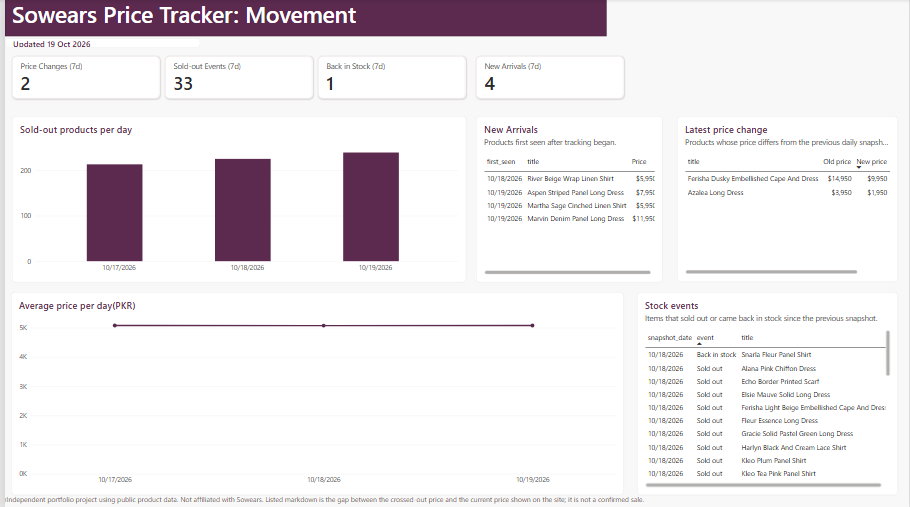

This screenshot's page, from the dashboard's own definition file:
{"tool":"powerbi","page":{"name":"Movement","canvas":[1920,1080],"ordinal":1},"visuals":[{"type":"shape","box":[0,0,1279.1,79.5],"z":0},{"type":"cardVisual","fields":{"Data":["price_history.Last Updated"]},"box":[0,82,415.3,20.5],"z":1000},{"type":"textbox","box":[0,1053.3,1465.2,25.7],"z":2000},{"type":"cardVisual","fields":{"Data":["price_history.Price Changes (7d)"]},"box":[14.9,121.2,314.6,91.4],"z":3000},{"type":"cardVisual","fields":{"Data":["price_history.Sold-out Events (7d)"]},"box":[340.9,120.5,314.6,91.4],"z":4000},{"type":"cardVisual","fields":{"Data":["price_history.New Arrivals (7d)"]},"box":[1001.8,120.1,314.6,91.4],"z":5000},{"type":"cardVisual","fields":{"Data":["price_history.Back in Stock (7d)"]},"box":[665,120.1,314.6,91.4],"z":6000},{"type":"lineChart","title":"Average price per day(PKR)","fields":{"Category":["daily_summary.snapshot_date"],"Y":["Sum(daily_summary.avg_price)"]},"box":[12.8,622.9,1303.2,431.6],"z":7000},{"type":"clusteredColumnChart","title":"Sold-out products per day","fields":{"Category":["daily_summary.snapshot_date"],"Y":["Sum(daily_summary.sold_out)"]},"box":[15.4,248.7,966.4,353.8],"z":8000},{"type":"tableEx","title":"Latest price change","fields":{"Values":["price_changes.title","Sum(price_changes.old_price)","Sum(price_changes.new_price)","Sum(price_changes.change_pct)"]},"box":[1428.7,248.7,469.8,352.9],"z":9000},{"type":"tableEx","title":"Stock events","fields":{"Values":["stock_changes.snapshot_date","stock_changes.event","stock_changes.title"]},"box":[1343.6,622.9,554.9,431.6],"z":10000},{"type":"tableEx","title":"New Arrivals","fields":{"Values":["new_arrivals.first_seen","new_arrivals.title","Sum(new_arrivals.price)"]},"box":[1002.3,248.7,397.3,353.8],"z":11000},{"type":"textbox","title":"Sowears Price Tracker: Movement","box":[14.9,0,1280,80],"z":12000}]}

Visuals, with their boxes in screenshot pixels (x1, y1, x2, y2), scaled from the page's 1920x1080 canvas onto the 910x507 screenshot:
shape: 0 0 606 37
cardVisual - price_history.Last Updated: 0 38 197 48
textbox: 0 494 694 506
cardVisual - price_history.Price Changes (7d): 7 57 156 100
cardVisual - price_history.Sold-out Events (7d): 162 57 311 99
cardVisual - price_history.New Arrivals (7d): 475 56 624 99
cardVisual - price_history.Back in Stock (7d): 315 56 464 99
"Average price per day(PKR)" lineChart: 6 292 624 495
"Sold-out products per day" clusteredColumnChart: 7 117 465 283
"Latest price change" tableEx: 677 117 900 282
"Stock events" tableEx: 637 292 900 495
"New Arrivals" tableEx: 475 117 663 283
"Sowears Price Tracker: Movement" textbox: 7 0 614 38
